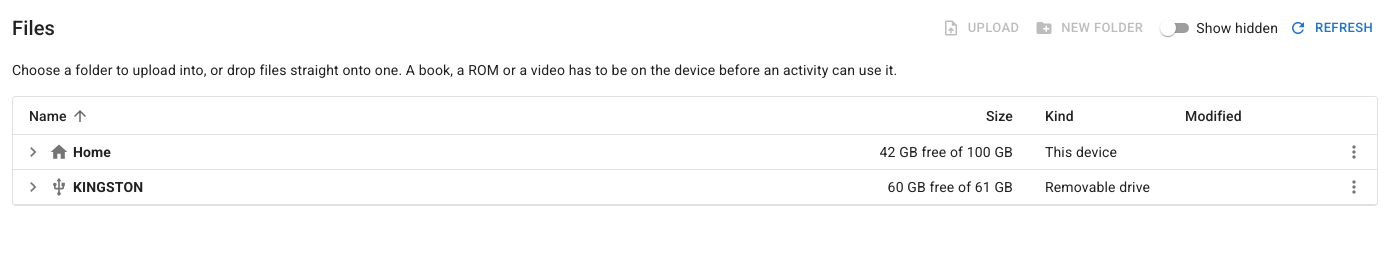
Scenario: the file tree › shows a link that points out of its place, and will not open it
Expected: the heading "Files" is shown, [12,12,55,44]
Click the button named "Expand Home" at x=33, y=152, box [18,137,48,167]
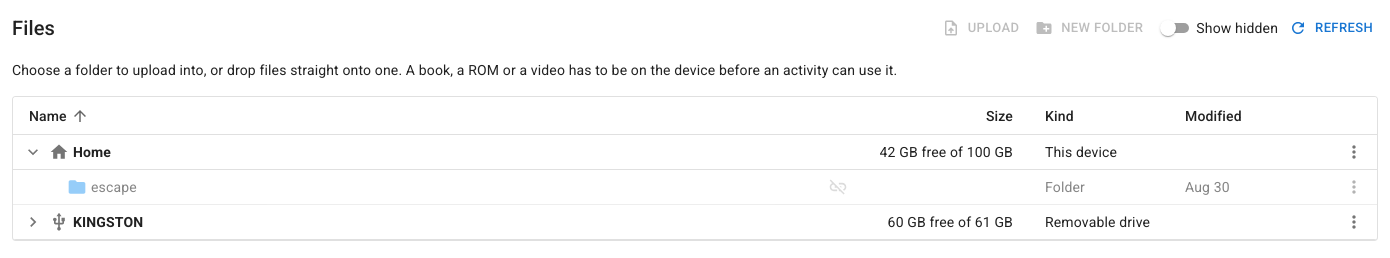
Now the text "escape" is shown, box [91,179,137,195]
